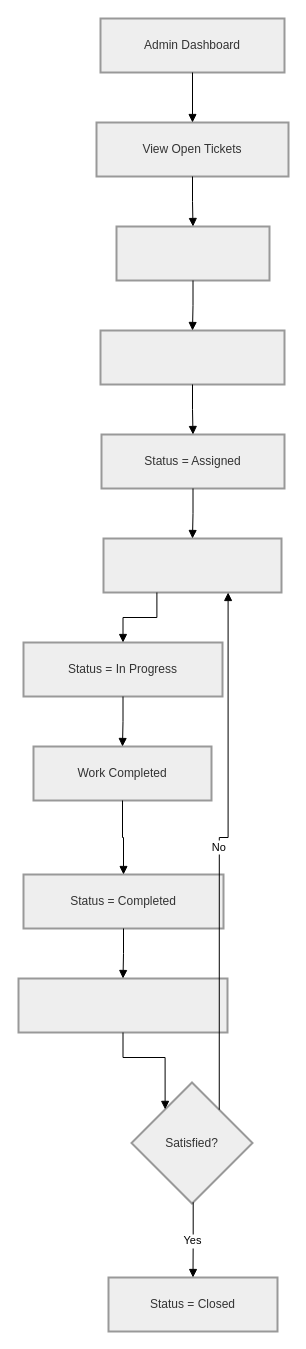
This 306x1349 diagram has some shape labels left out. The shapes that lost their labels are listed below. From the top down, each one's centre as x and y in pixels, then its label:
At (x=192, y=253): "Select Ticket".
At (x=192, y=357): "Assign Technician".
At (x=192, y=565): "Work In Progress".
At (x=122, y=1005): "Resident Verification".
